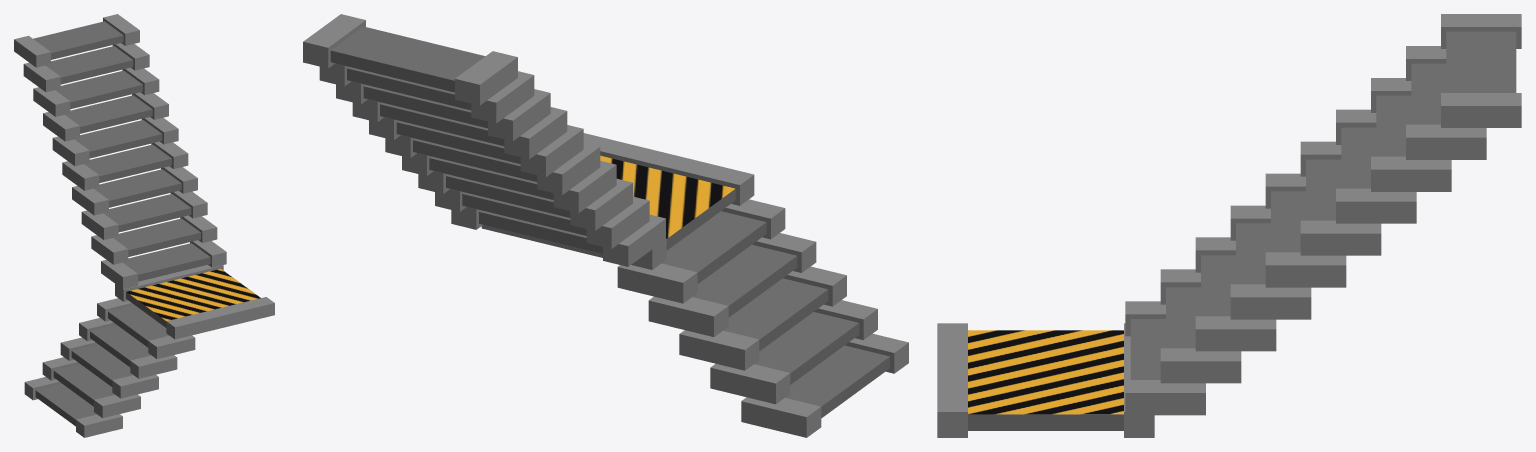
File: SM_B_Stairs.fbx
3 renders of one model, left to right at view 1: azimuth 30°, elevation 25°; view 2: azimuth 150°, elevation 25°; view 3: azimuth 270°, elevation 25°, orthographic. The views are drawn at different scales.
Visible parts, largest first — view 1: SM_B_Stairs; view 2: SM_B_Stairs; view 3: SM_B_Stairs.
Part boxes in pixels (x1,y1,x2,y2): SM_B_Stairs: [14, 14, 274, 437]; SM_B_Stairs: [303, 14, 908, 437]; SM_B_Stairs: [937, 14, 1521, 437].
Bounding box in the file's own units: 273 × 391 × 347.
